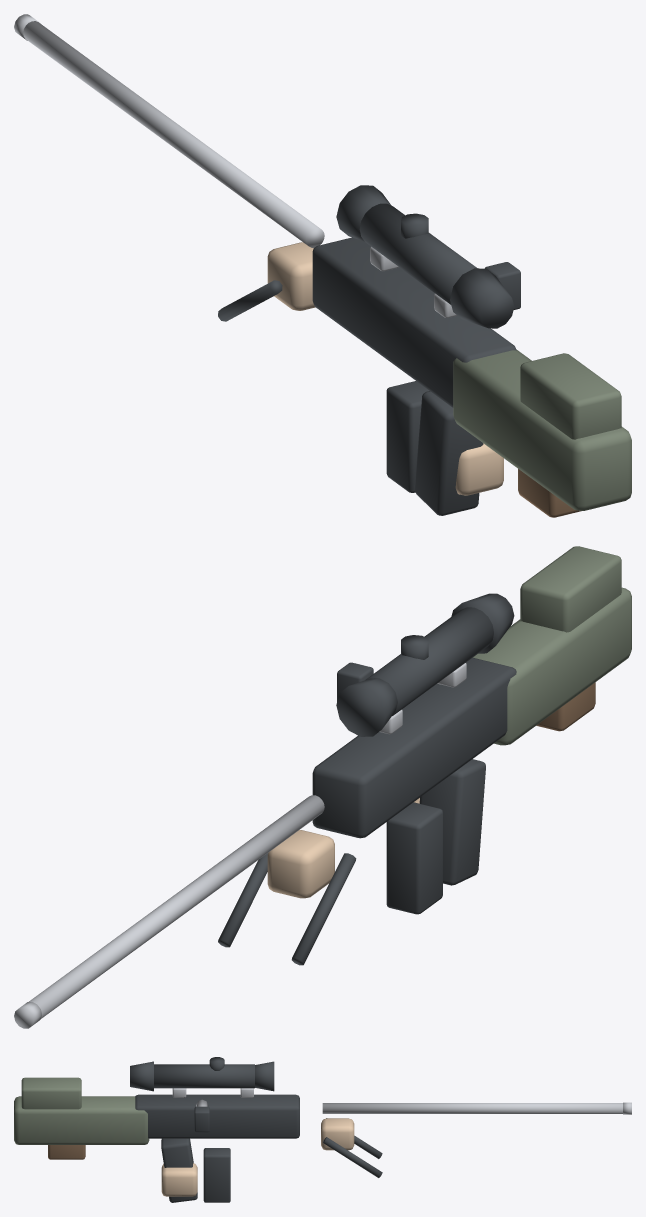
The model's file is sniper.glb.
3 views of the same model, one above another, from view 1: azimuth 30°, elevation 25°; view 2: azimuth 150°, elevation 25°; view 3: azimuth 270°, elevation 25° (orthographic). The views are drawn at different scales.
Parts seen in each view (by area): view 1: WeaponMesh, Mag; view 2: WeaponMesh, Mag; view 3: WeaponMesh, Mag.
Boxes of the visible parts, x1=… form: WeaponMesh: x1=14, y1=14, x2=631, y2=517; Mag: x1=386, y1=381, x2=429, y2=492; WeaponMesh: x1=14, y1=546, x2=631, y2=1028; Mag: x1=386, y1=802, x2=442, y2=914; WeaponMesh: x1=14, y1=1057, x2=631, y2=1202; Mag: x1=203, y1=1148, x2=230, y2=1202.
Bounding box in the file's own units: 0.105 × 0.204 × 0.821.
